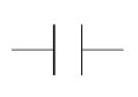Capacitor: (29, 13, 99, 82)
